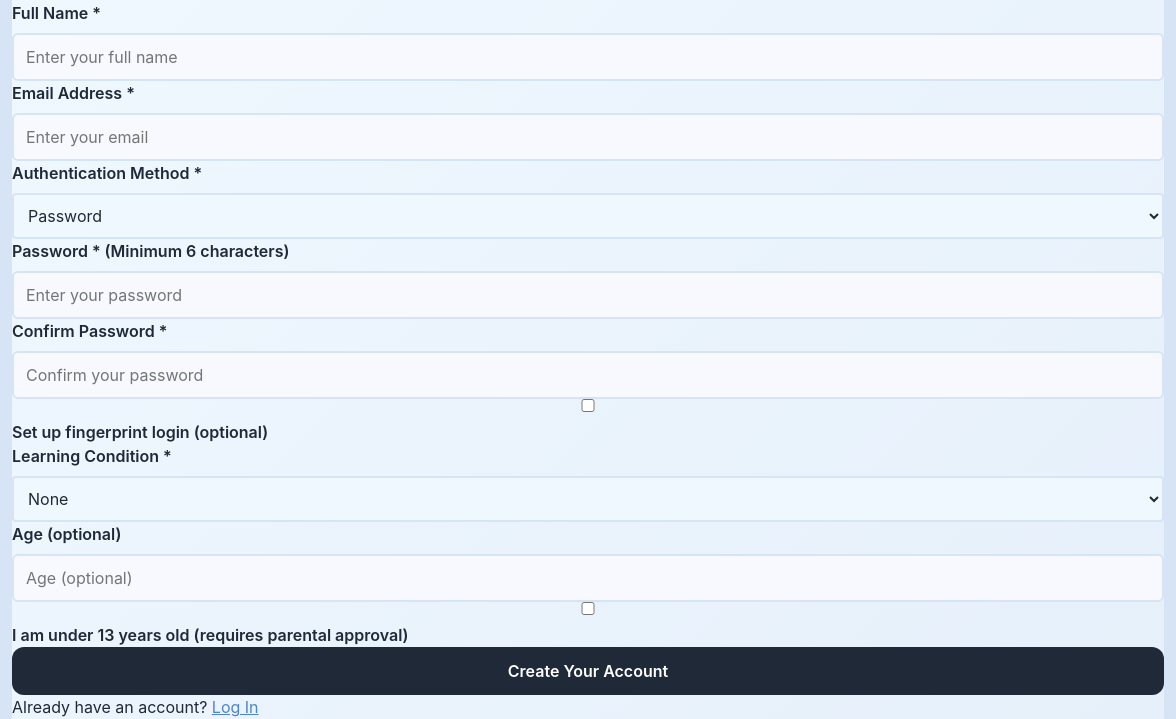
Test: Register Component › should show parent email field when minor checkbox is checked
(page scrolled)
What coordinates should you click on to do the following:
click the checkbox labelled "I am under 13 years old (requires parental approval)"
I would click on:
 (588, 608)
Its box is [12,602,1164,615].
(page scrolled)
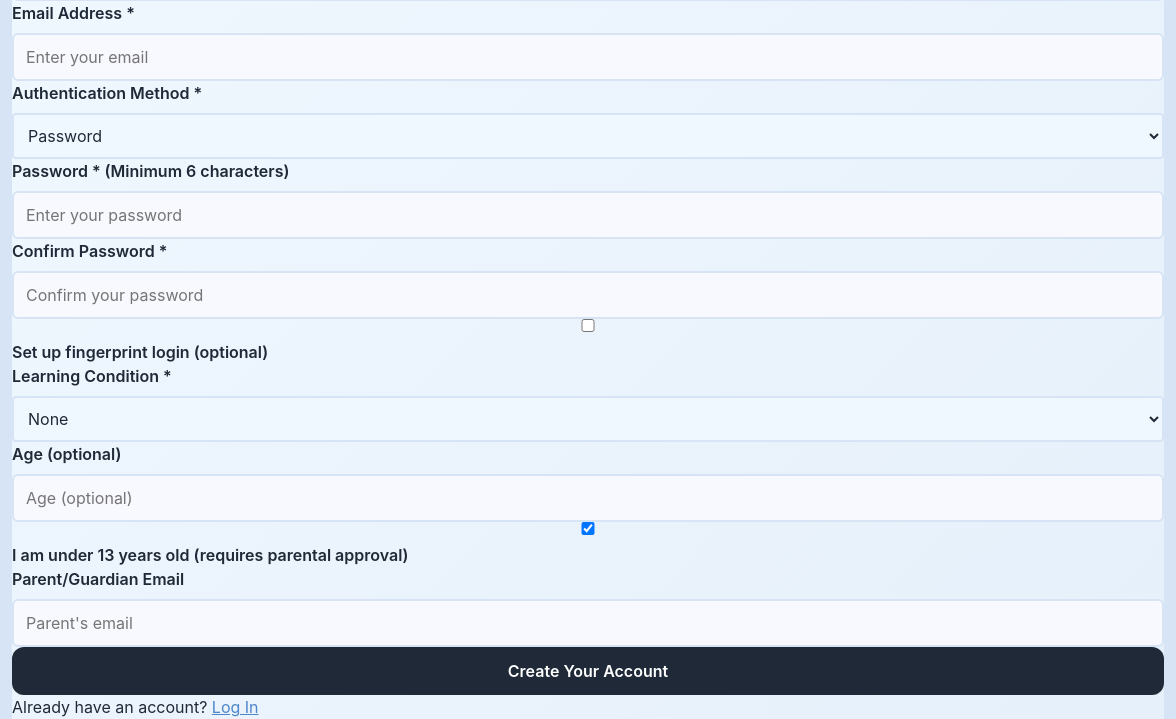
Result: the field labelled "Parent/Guardian Email" is shown at [12,599,1164,647]
